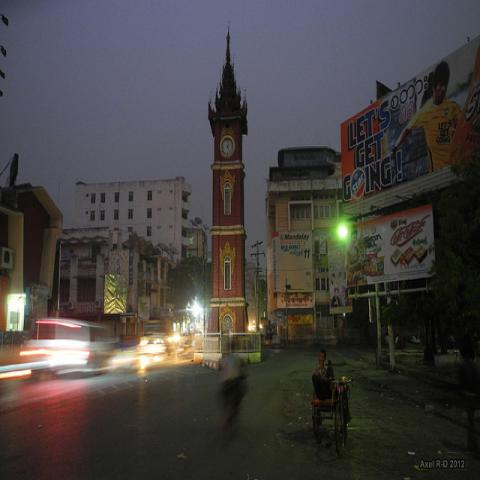bus: (36, 320, 115, 370)
car: (136, 336, 164, 360)
